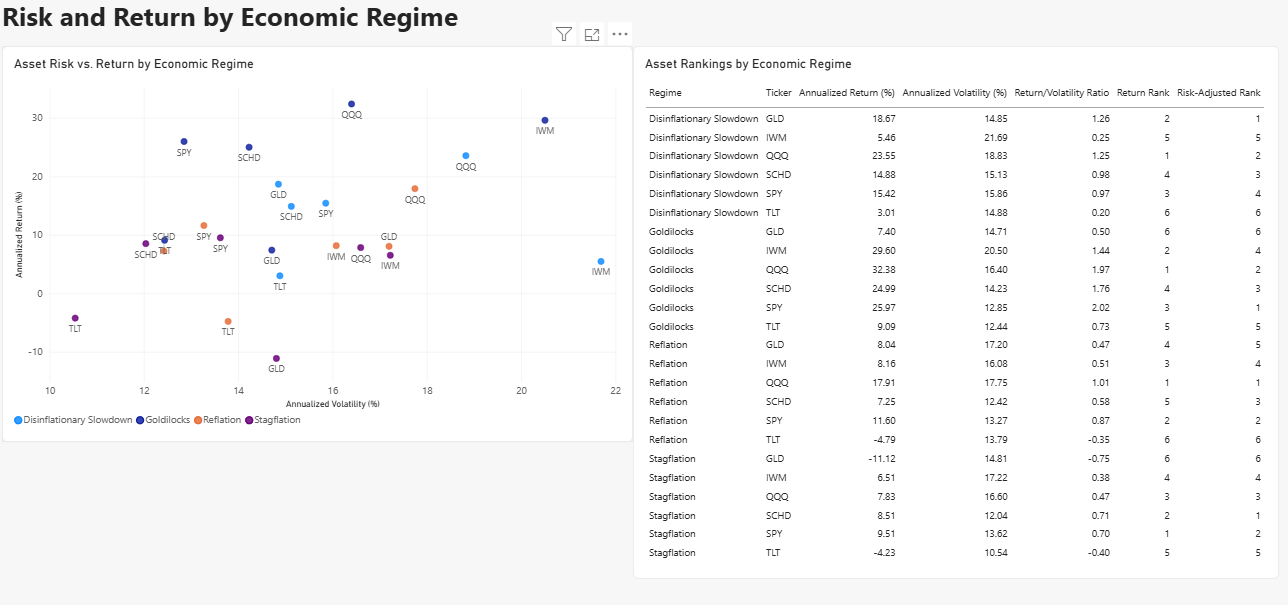

The dashboard page shown, as its layout file describes it:
{"tool":"powerbi","page":{"name":"Risk & Rankings","canvas":[1920,1080],"ordinal":1},"visuals":[{"type":"textbox","box":[10,0,950,280],"z":0},{"type":"scatterChart","title":"Asset Risk vs. Return by Economic Regime","fields":{"Category":["analytics vw_regime_performance_summary.ticker"],"Series":["analytics vw_regime_performance_summary.regime"],"X":["Sum(analytics vw_regime_performance_summary.annualized_volatility_pct)"],"Y":["Sum(analytics vw_regime_performance_summary.annualized_return_pct)"]},"box":[10,68.6,901.4,565.7],"z":1},{"type":"tableEx","title":"Asset Rankings by Economic Regime","fields":{"Values":["analytics vw_regime_rankings.regime","analytics vw_regime_rankings.ticker","analytics vw_regime_rankings.annualized_return_pct","analytics vw_regime_rankings.annualized_volatility_pct","analytics vw_regime_rankings.return_volatility_ratio","analytics vw_regime_rankings.return_rank","analytics vw_regime_rankings.risk_adjusted_rank"]},"box":[911.4,68.6,922.9,761.4],"z":2}]}

Visuals, with their boxes on the page's 1920x1080 design canvas (x1, y1, x2, y2). These are canvas units, not pixel positions in the 1288x605 screenshot, which may show the page scaled, cropped or inside an application window:
textbox: x1=10 y1=0 x2=960 y2=280
"Asset Risk vs. Return by Economic Regime" scatterChart: x1=10 y1=69 x2=911 y2=634
"Asset Rankings by Economic Regime" tableEx: x1=911 y1=69 x2=1834 y2=830
